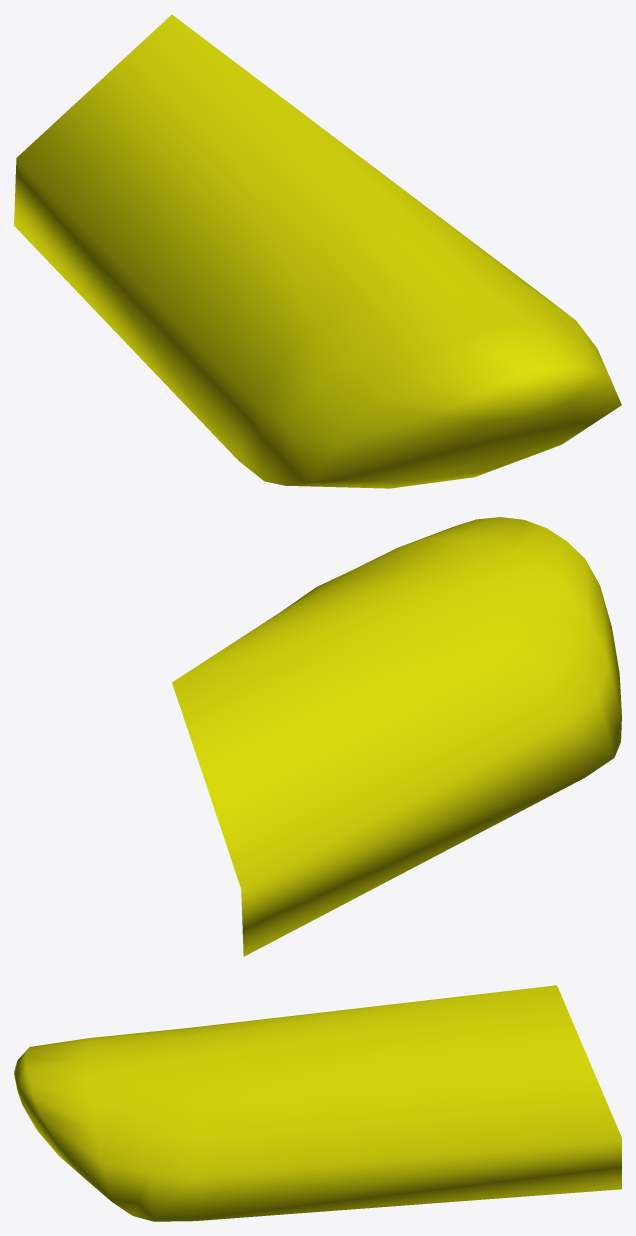
File: Nose_4.glb
3 renders of one model, top to bottom at view 1: azimuth 30°, elevation 25°; view 2: azimuth 150°, elevation 25°; view 3: azimuth 270°, elevation 25°, orthographic. The views are drawn at different scales.
Size of the model in its own units: 9.38 by 6.31 by 18.72.
